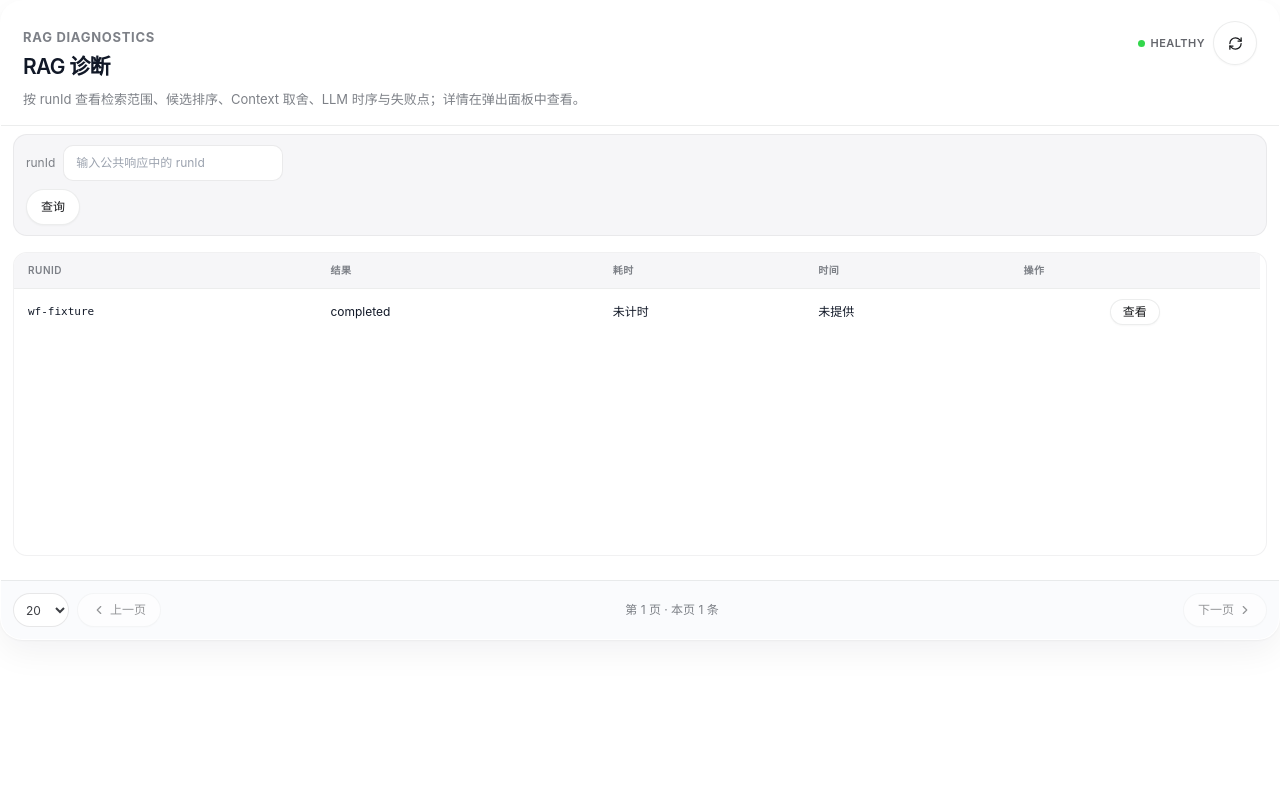
Scenario: shows future node and tool identities, parent executions, timings and truncation
Click the text "wf-fixture": (61,311) [14, 288, 316, 335]
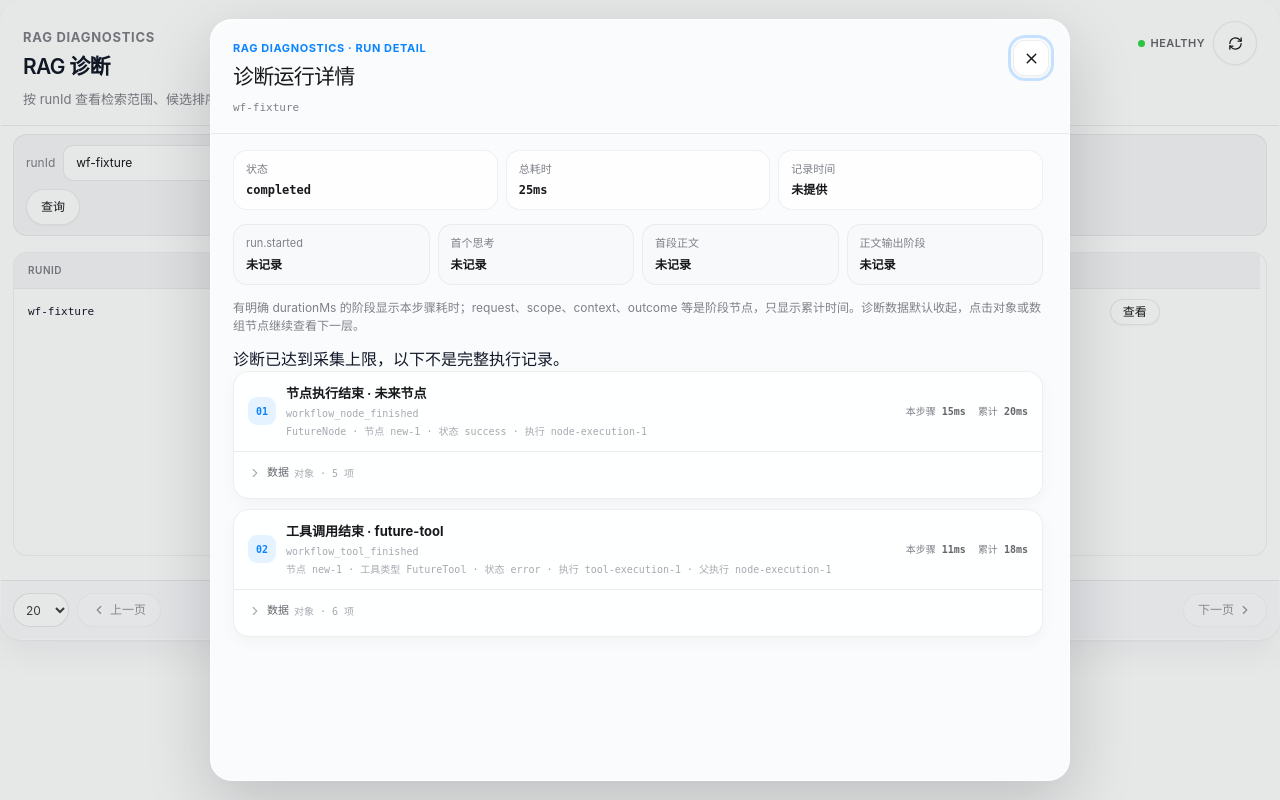
expect the heading "节点执行结束 · 未来节点" is shown: met, box [286, 384, 426, 400]
expect the heading "工具调用结束 · future-tool" is shown: met, box [286, 522, 444, 538]
expect the text "FutureNode · 节点 new-1 · 状态 success · 执行 node-execution-1" is shown: met, box [286, 424, 647, 439]
Press Escape
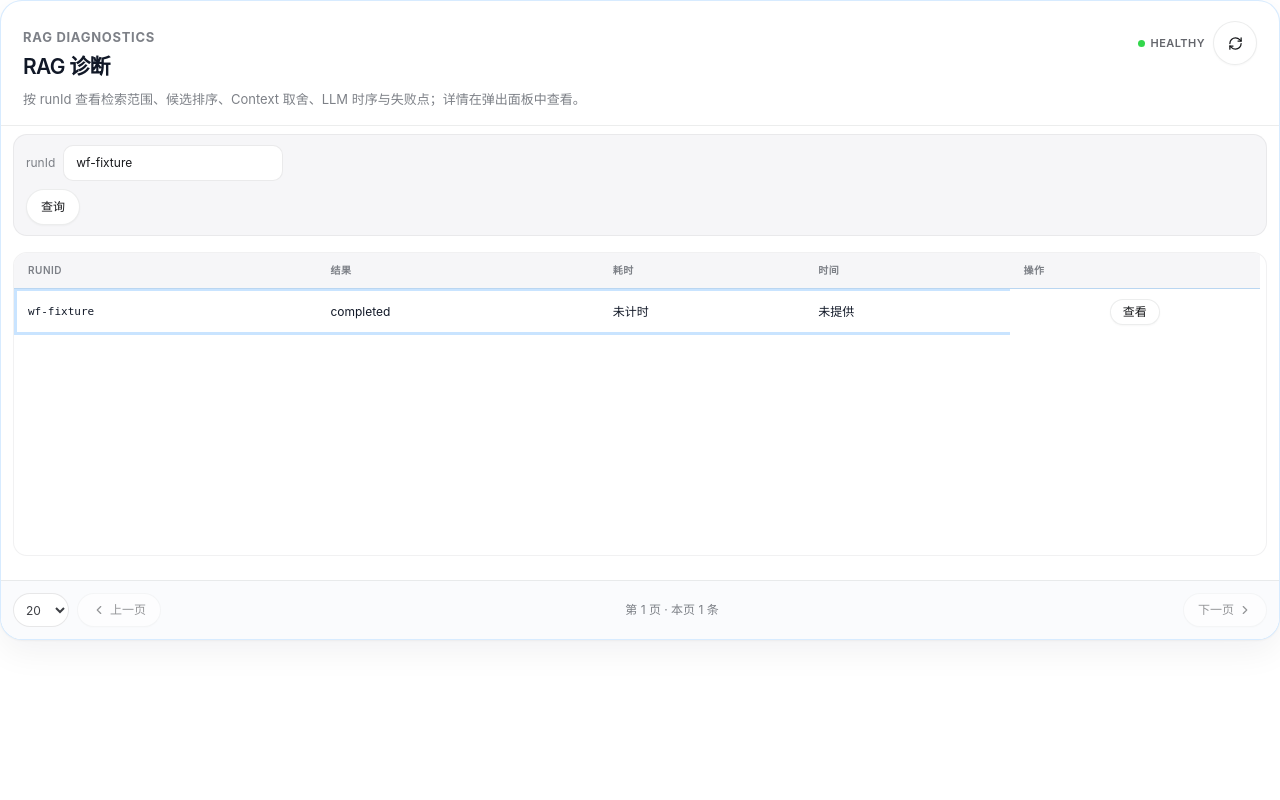
expect the dialog is gone: met
